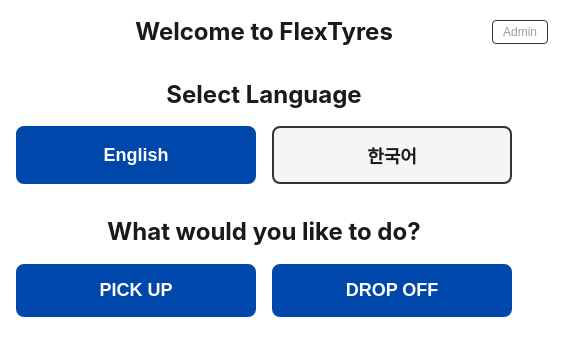
Landing Page — Step 0 › switches to Korean when Korean button is clicked
Click the button "한국어" at (392, 155), box [272,126,512,184]
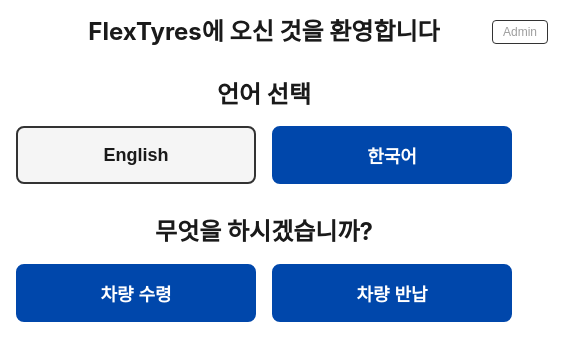
Check: the heading "FlexTyres에 오신 것을 환영합니다" is shown, box [88,16,440,47]
